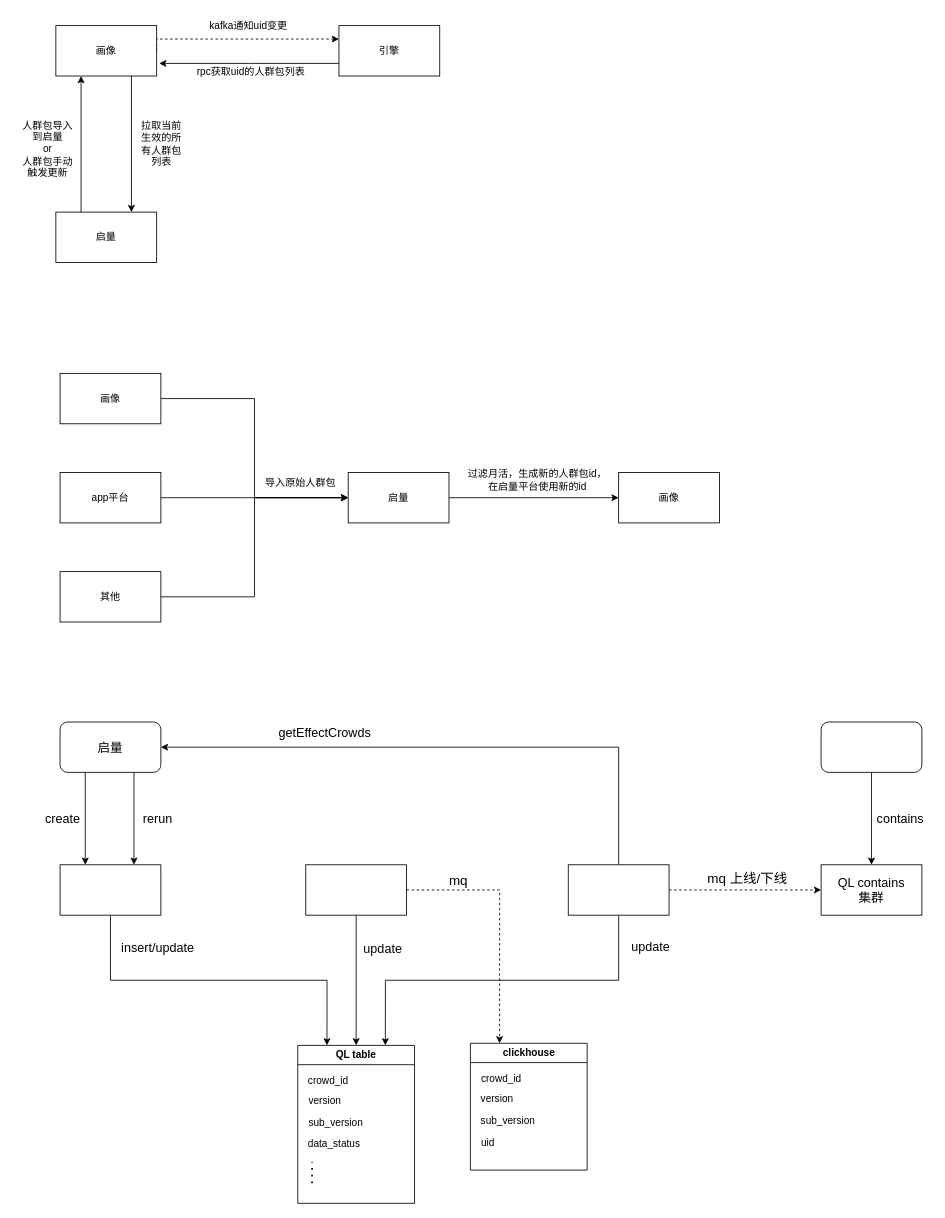
The diagram is 945 pixels wide and 1218 high, and some of its shapes have lost their labels. Each missing label, with the centre of its shape:
crowd rpc: the point at 110,889
mutil-task: the point at 618,889
reco: the point at 871,746
sub-task: the point at 356,889
